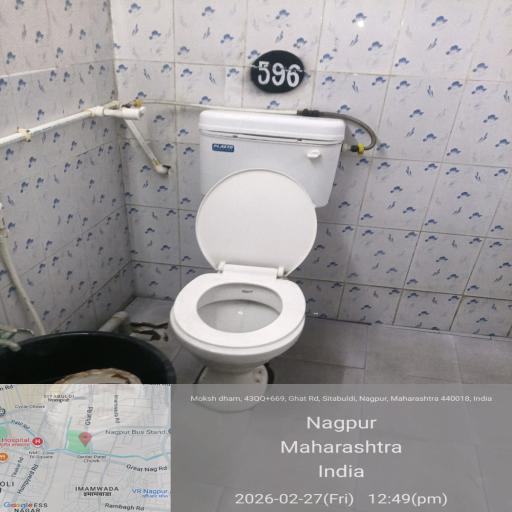clean_floor: (22, 11, 512, 179)
clean_western: (166, 199, 316, 418)
partial_dirty_floor: (85, 256, 512, 512)
